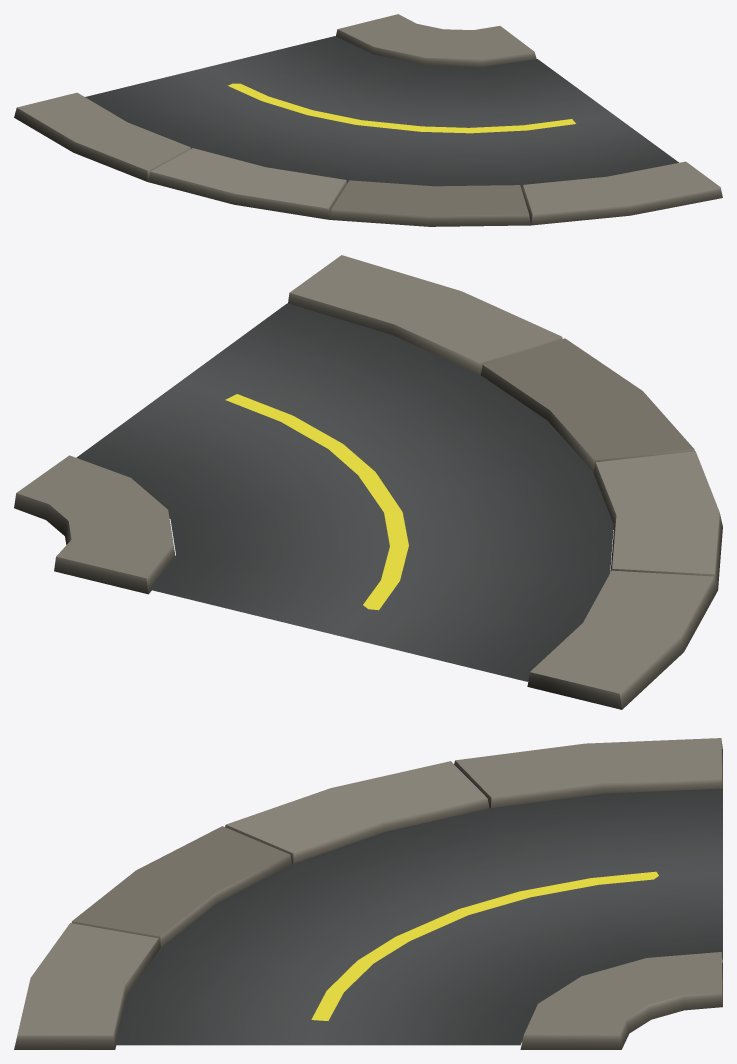
File: Road_3X.fbx
The picture shows the model from 3 angles, top to bottom: view 1: azimuth 30°, elevation 25°; view 2: azimuth 150°, elevation 25°; view 3: azimuth 270°, elevation 25°; orthographic projection. The views are drawn at different scales.
Visible parts, largest first — view 1: Road_3X; view 2: Road_3X; view 3: Road_3X.
Boxes of the visible parts, x1,y1,x2,y2 form: Road_3X: (14, 14, 722, 226); Road_3X: (14, 255, 722, 709); Road_3X: (14, 738, 722, 1049).
Size of the model in its own units: 1400 by 30 by 1400.
